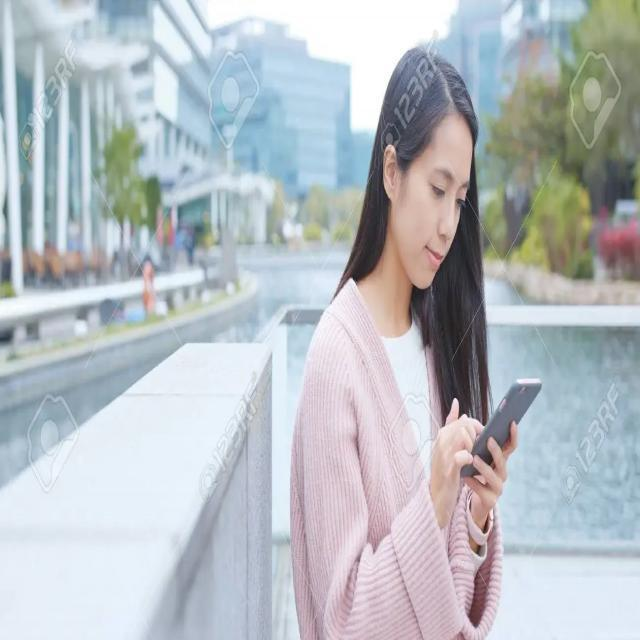Phone: (462, 378, 544, 483)
